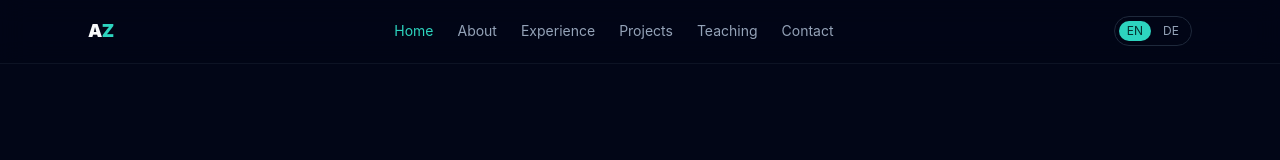
Test: language toggle switches nav labels to German
The width and height of the screenshot is (1280, 160).
Click the button "de" at (1171, 31), box [1155,21,1187,41]
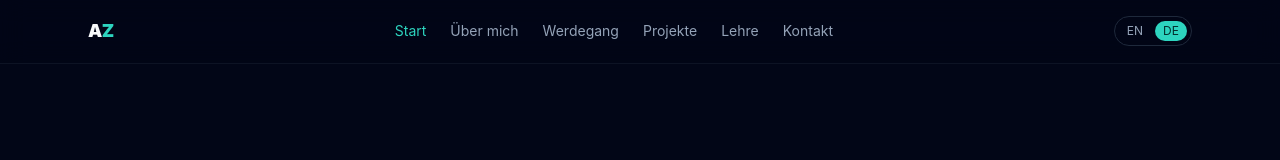
Now the link "Über mich" is shown, box [450,21,519,41]
